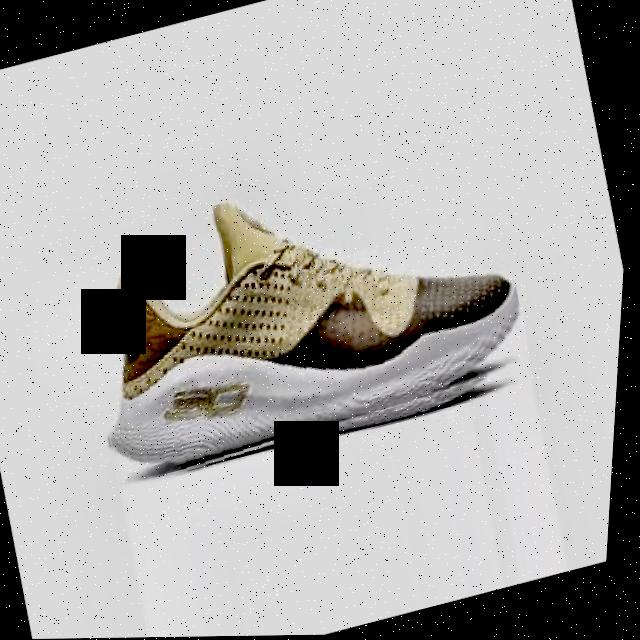shoe: (60, 135, 551, 494)
